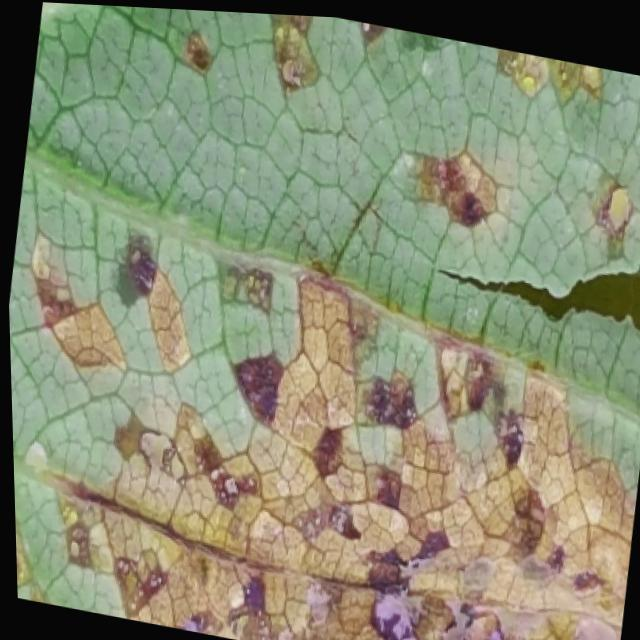Angular Leafspot: (10, 10, 640, 640)
